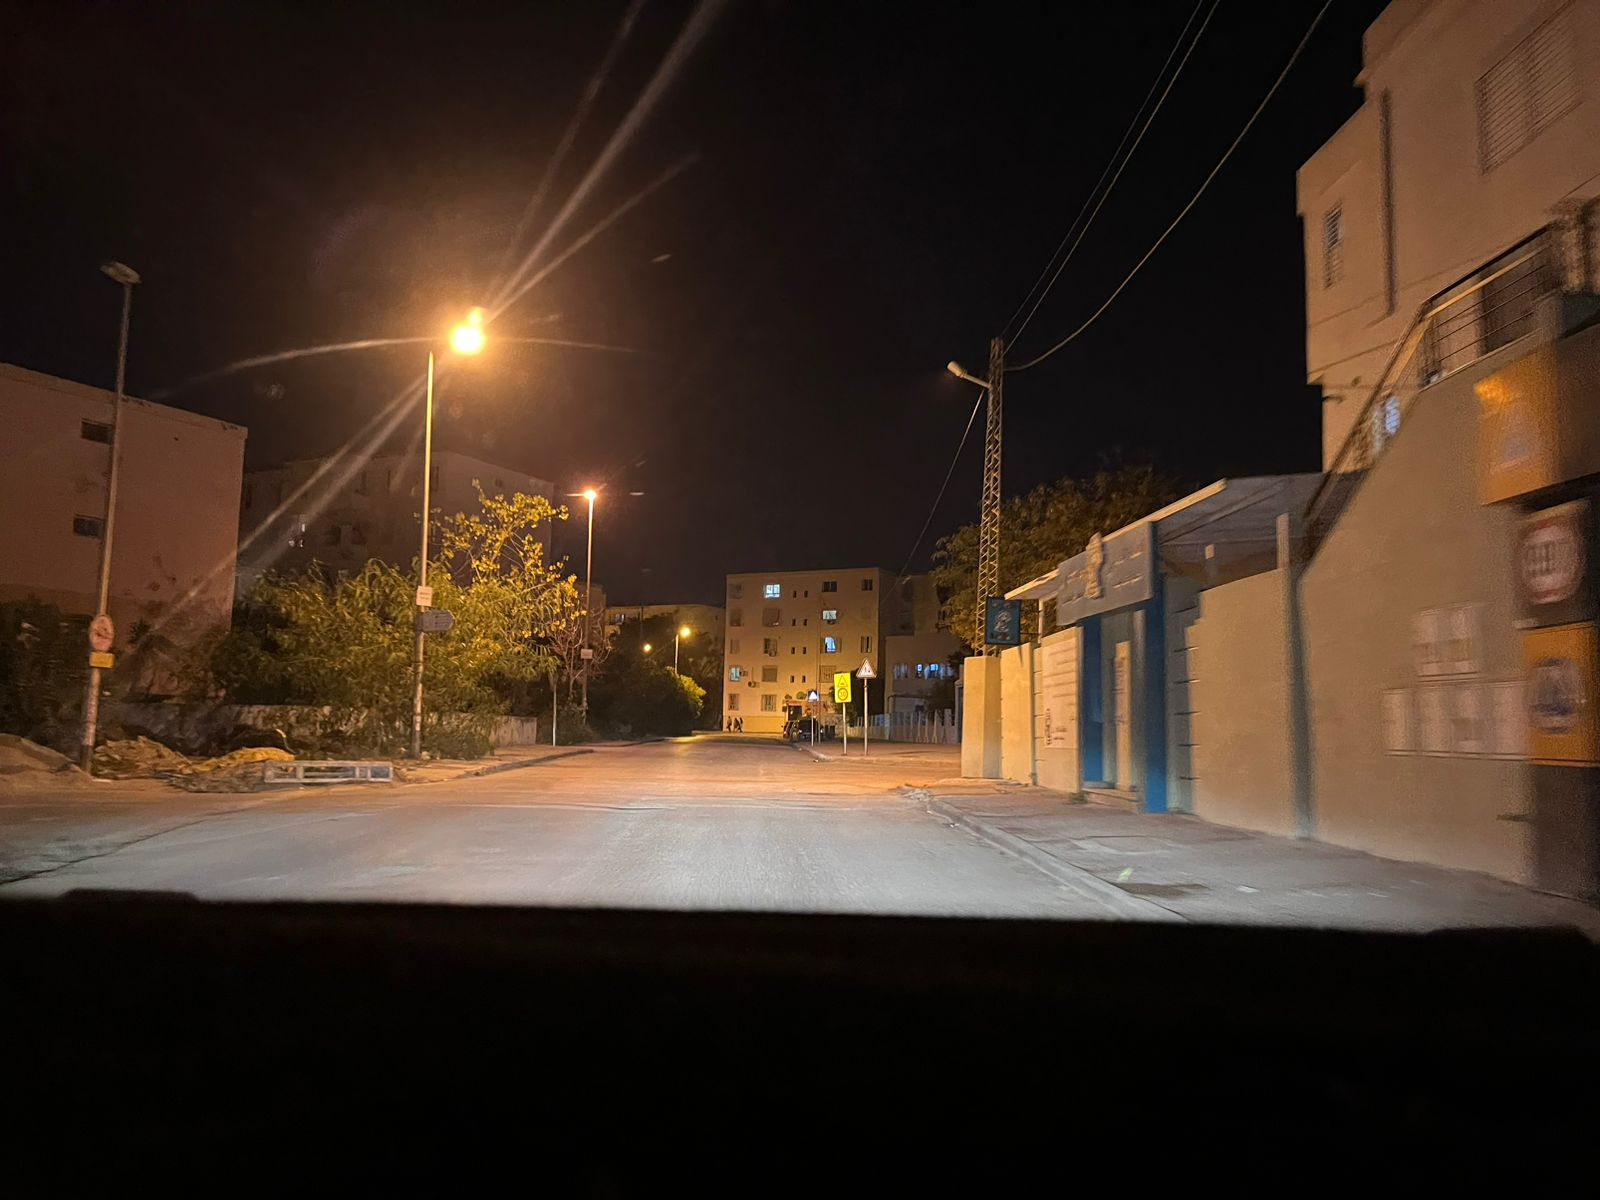SpeedLimit30: (833, 672, 851, 704)
